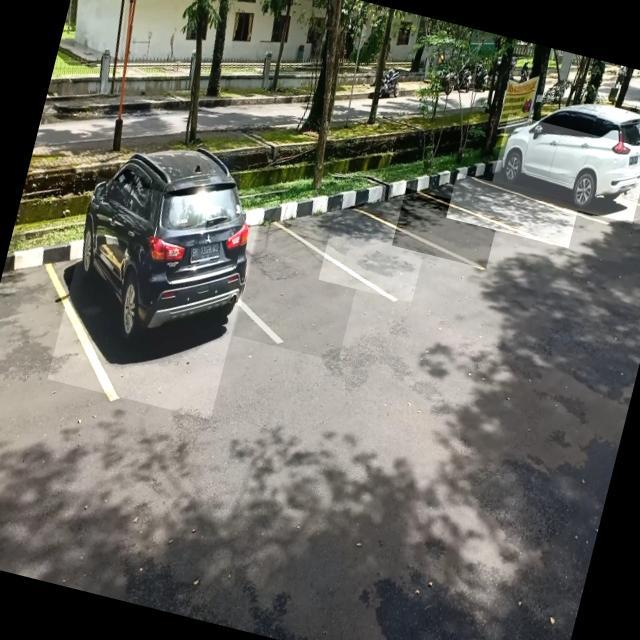empty: (233, 217, 367, 361), (318, 208, 430, 302), (446, 173, 579, 248), (392, 188, 499, 268)
occupied: (47, 176, 261, 420), (490, 113, 640, 223)
